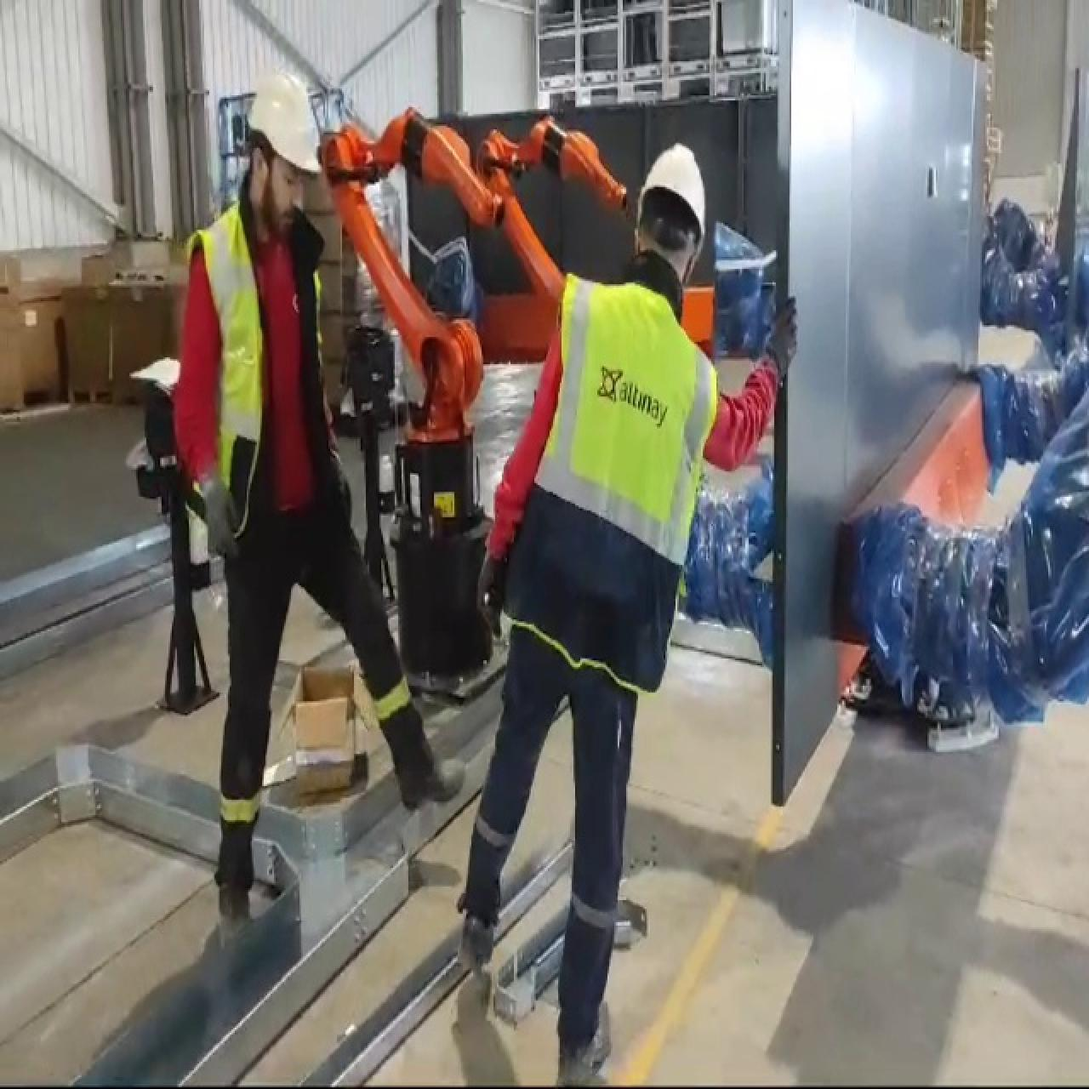Person: (448, 99, 743, 1089), (157, 48, 479, 919)
Safety_Vest: (513, 271, 711, 708), (189, 199, 370, 530)
